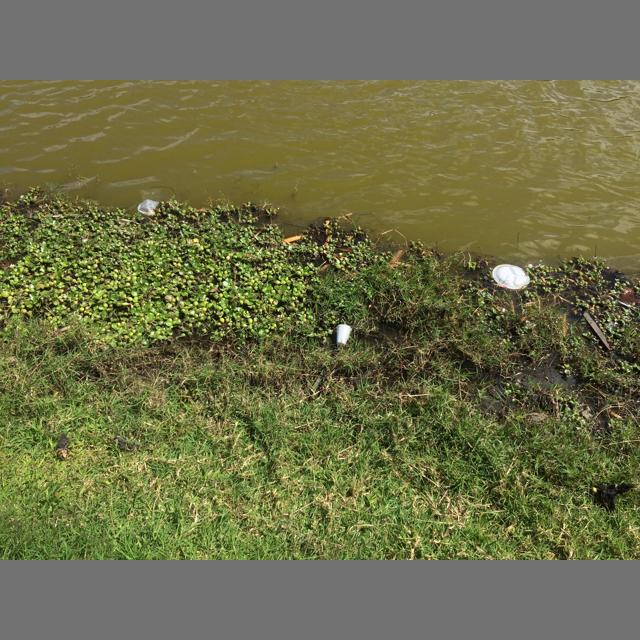litter: (492, 264, 530, 289), (138, 199, 159, 216), (336, 324, 352, 346)
